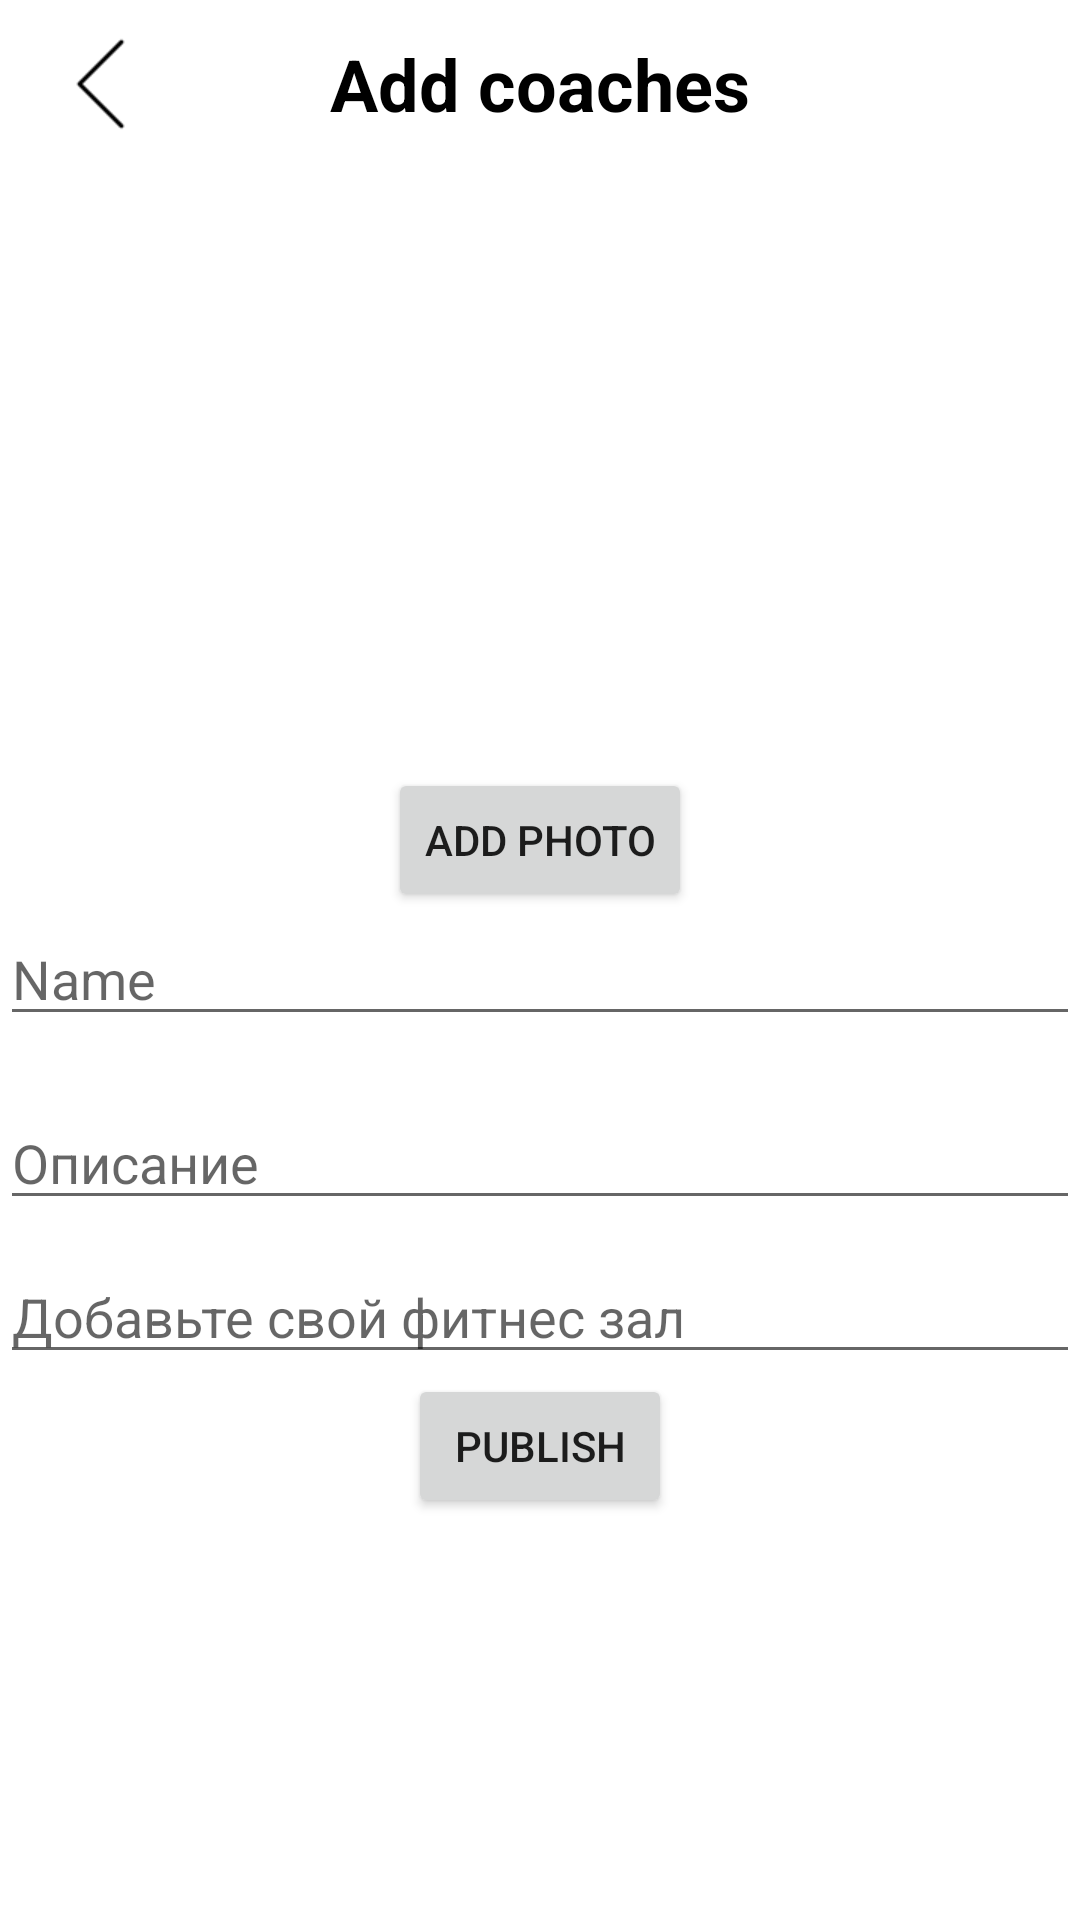

Screen size 1080w x 1920h. Icon name, then its center in pixels as (x=x, y=y):
back: (x=100, y=84)
